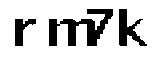7: (92, 6, 113, 49)
k: (114, 6, 151, 52)
m: (45, 17, 95, 52)
r: (11, 14, 40, 50)
